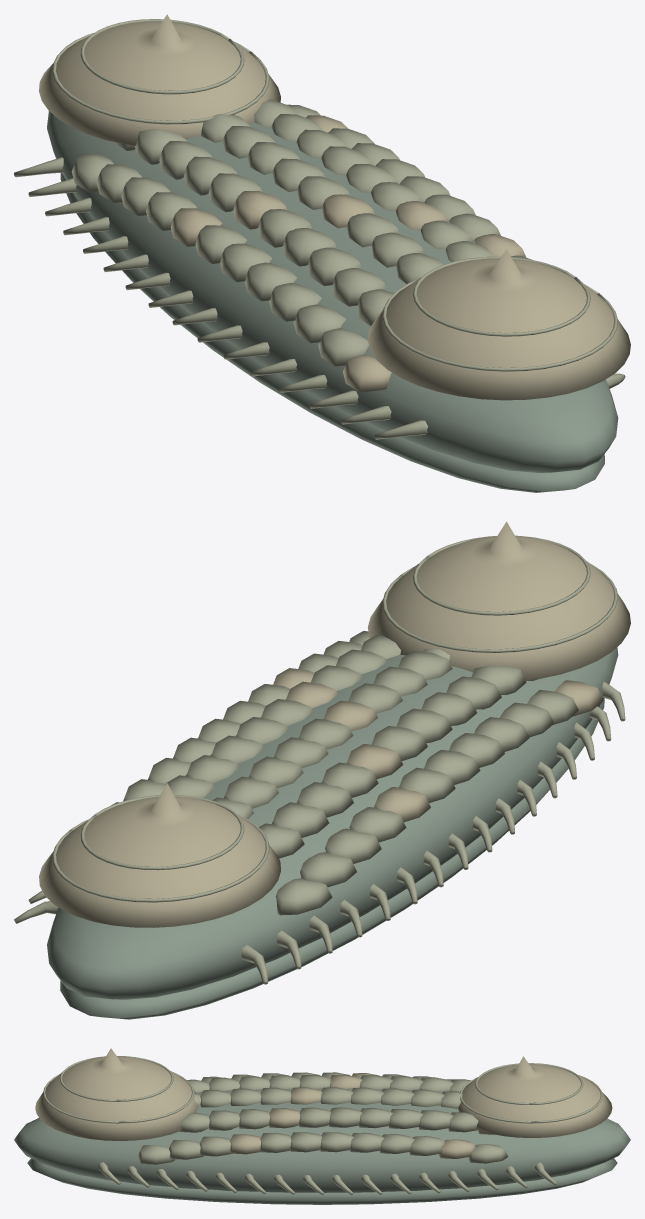
Rendered from halkieria.glb.
The picture shows the model from 3 angles, top to bottom: view 1: azimuth 30°, elevation 25°; view 2: azimuth 150°, elevation 25°; view 3: azimuth 270°, elevation 25°; orthographic projection. The views are drawn at different scales.
Parts seen in each view (by area): view 1: ordered overlapping dorsal armour zones, distinct anterior and posterior cap shells, elongated flattened soft mantle and sole; view 2: ordered overlapping dorsal armour zones, distinct anterior and posterior cap shells, elongated flattened soft mantle and sole; view 3: elongated flattened soft mantle and sole, ordered overlapping dorsal armour zones, distinct anterior and posterior cap shells.
Boxes of the visible parts, left/top/right/bottom form: ordered overlapping dorsal armour zones: left=14, top=99, right=625, bottom=439; distinct anterior and posterior cap shells: left=39, top=14, right=630, bottom=400; elongated flattened soft mantle and sole: left=47, top=111, right=618, bottom=492; ordered overlapping dorsal armour zones: left=14, top=631, right=625, bottom=984; distinct anterior and posterior cap shells: left=39, top=521, right=630, bottom=927; elongated flattened soft mantle and sole: left=47, top=647, right=618, bottom=1019; elongated flattened soft mantle and sole: left=14, top=1088, right=630, bottom=1204; ordered overlapping dorsal armour zones: left=98, top=1072, right=556, bottom=1194; distinct anterior and posterior cap shells: left=35, top=1048, right=612, bottom=1140.
Size of the model in its own units: 0.0255 by 0.0169 by 0.07.
